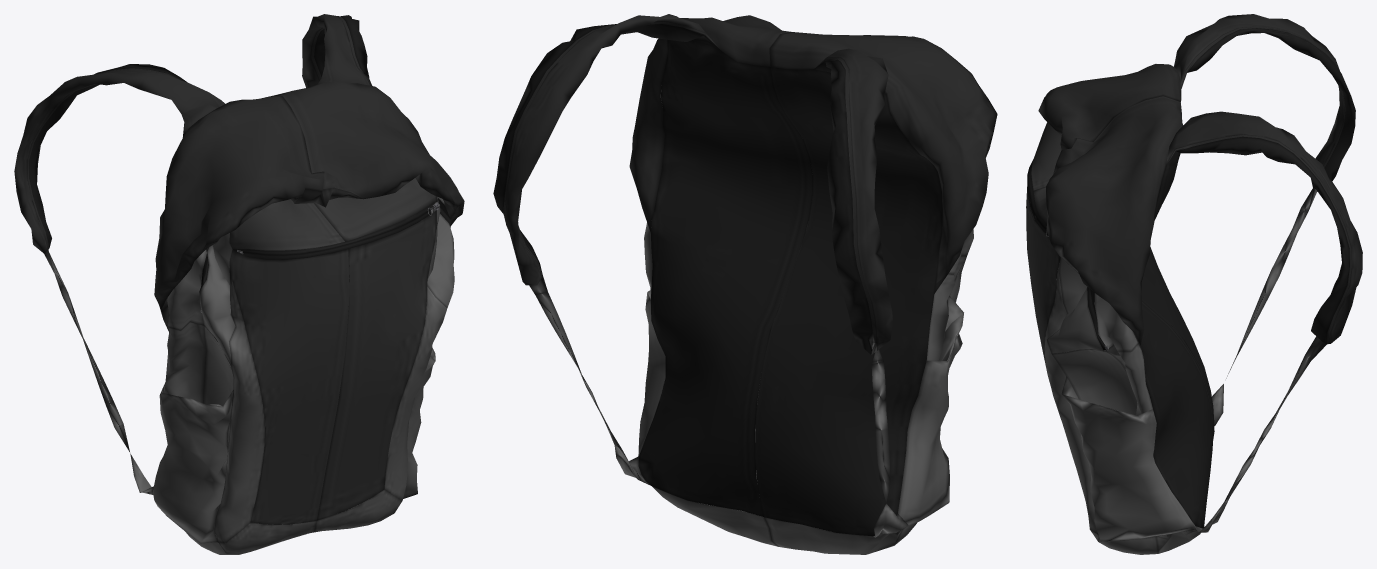
File: bag_backpack.glb
3 renders of one model, left to right at view 1: azimuth 30°, elevation 25°; view 2: azimuth 150°, elevation 25°; view 3: azimuth 270°, elevation 25°, orthographic. The views are drawn at different scales.
Visible parts, largest first — view 1: bag_backpack; view 2: bag_backpack; view 3: bag_backpack.
Boxes of the visible parts, box(x1,y1,x2,y2) form: bag_backpack: box(14, 14, 464, 554); bag_backpack: box(493, 14, 997, 554); bag_backpack: box(1026, 14, 1362, 554).
Size of the model in its own units: 0.2889 by 0.3799 by 0.2564.
Materials: 1 (1 with a texture image).
